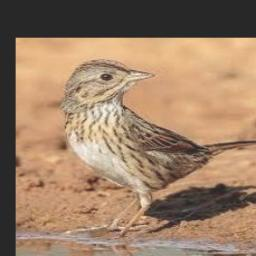Sparrow: (61, 59, 256, 235)
